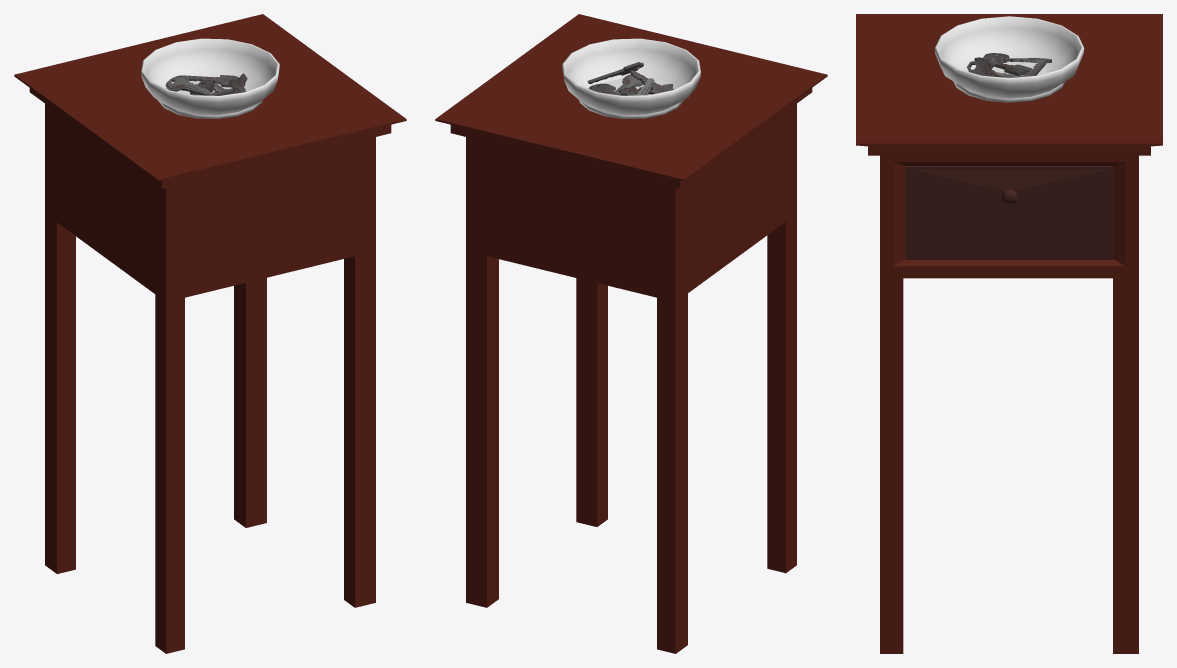
The model's file is TableWithKeys.fbx.
3 renders of one model, left to right at view 1: azimuth 30°, elevation 25°; view 2: azimuth 150°, elevation 25°; view 3: azimuth 270°, elevation 25°, orthographic. The views are drawn at different scales.
Visible parts, largest first — view 1: LittleTable, Cylinder; view 2: LittleTable, Cylinder; view 3: LittleTable, Cylinder.
Part boxes in pixels (left/top/right/bottom): LittleTable: left=14, top=14, right=406, bottom=653; Cylinder: left=141, top=38, right=279, bottom=118; LittleTable: left=435, top=14, right=827, bottom=653; Cylinder: left=562, top=38, right=700, bottom=118; LittleTable: left=856, top=14, right=1162, bottom=653; Cylinder: left=934, top=16, right=1084, bottom=102.
Bounding box in the file's own units: 32.54 × 64.62 × 32.54.
